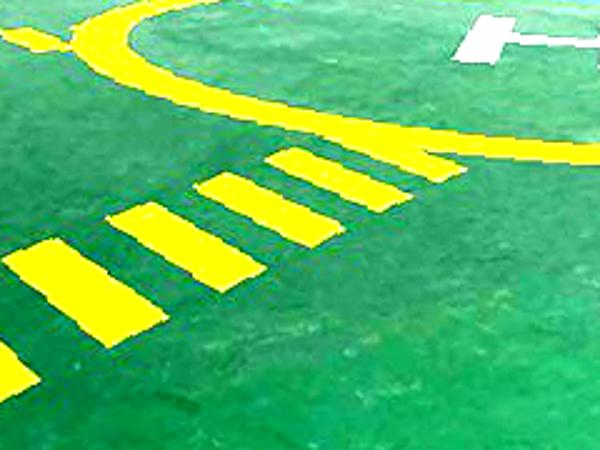Apron: (63, 1, 598, 172)
